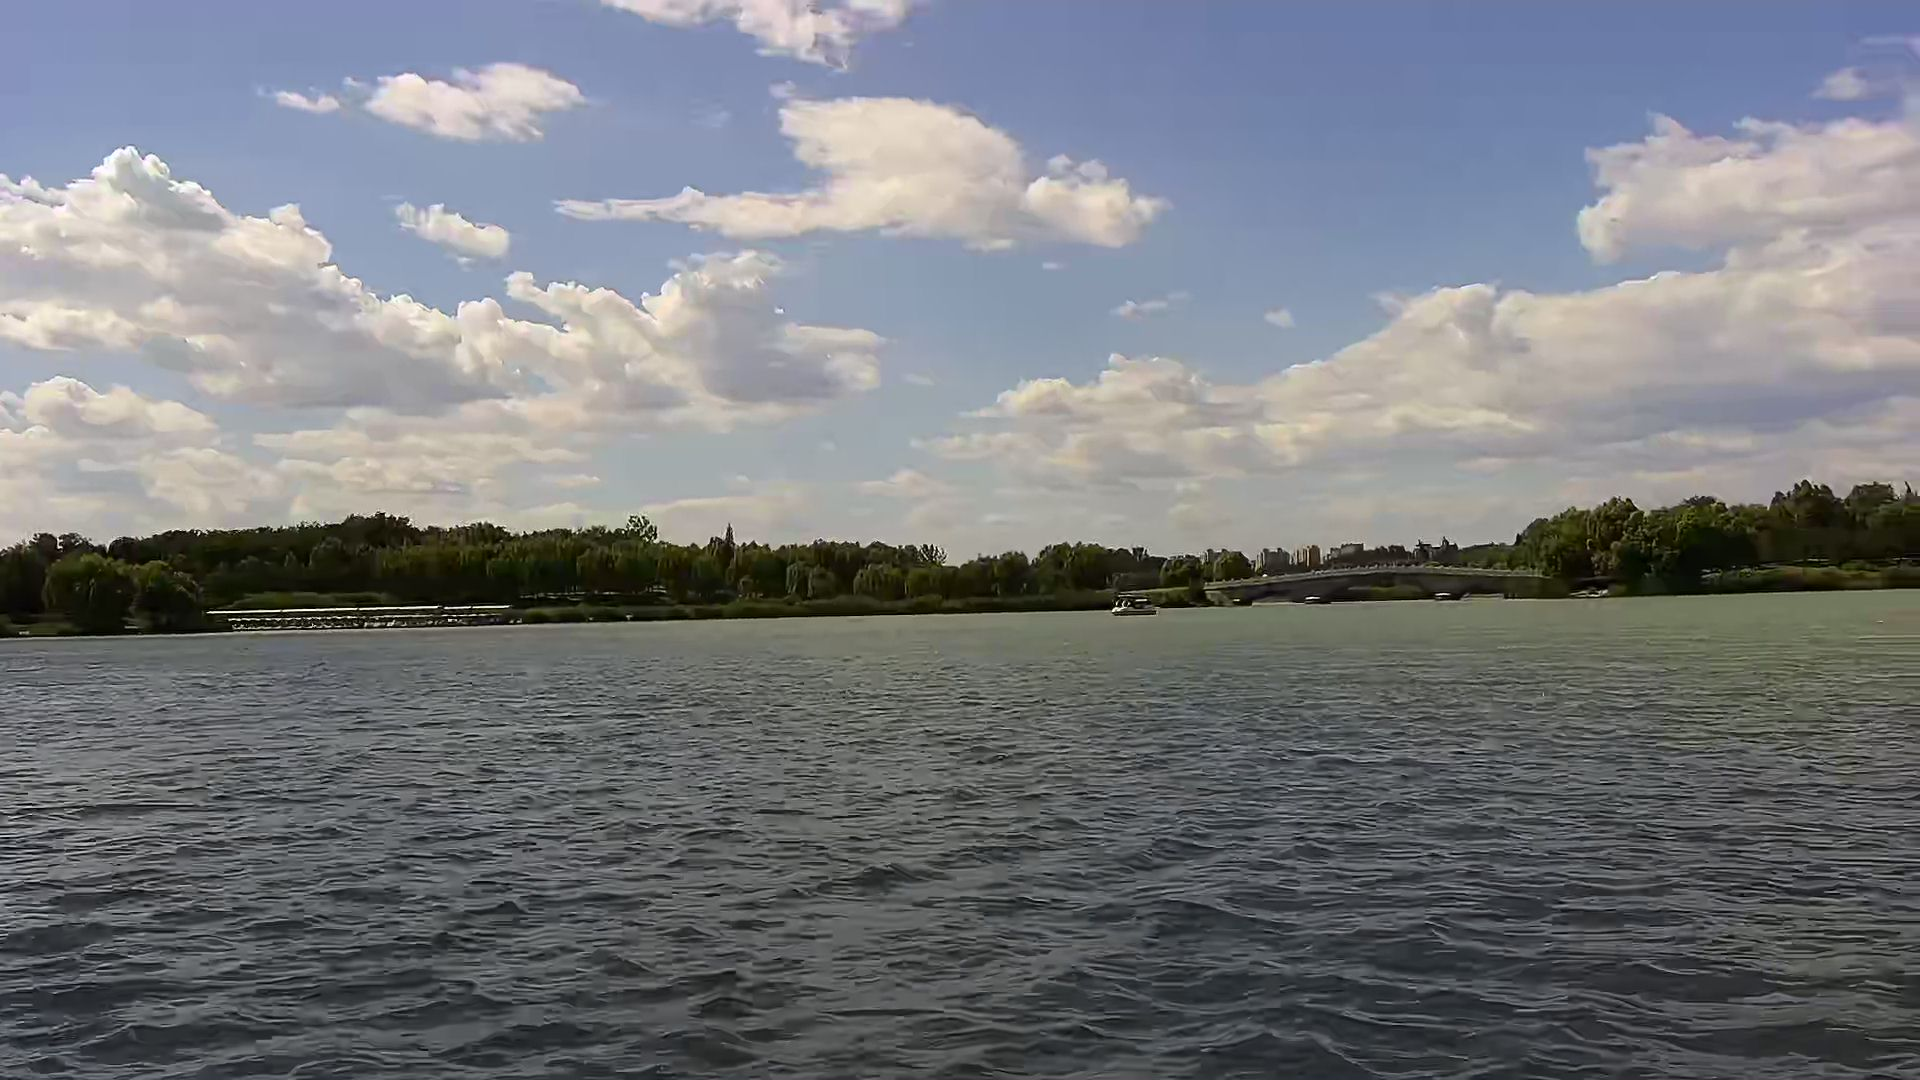boat: (1110, 592, 1158, 617)
bridge: (1207, 567, 1543, 603), (222, 607, 510, 626)
